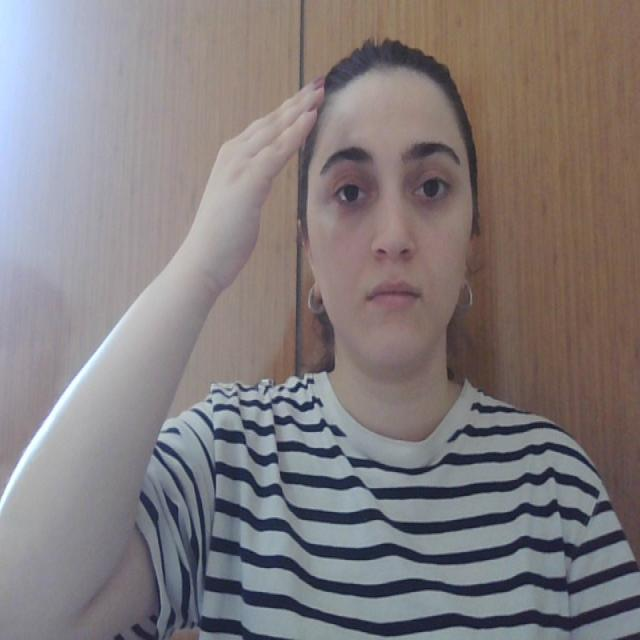Merhaba: (174, 64, 336, 337)
